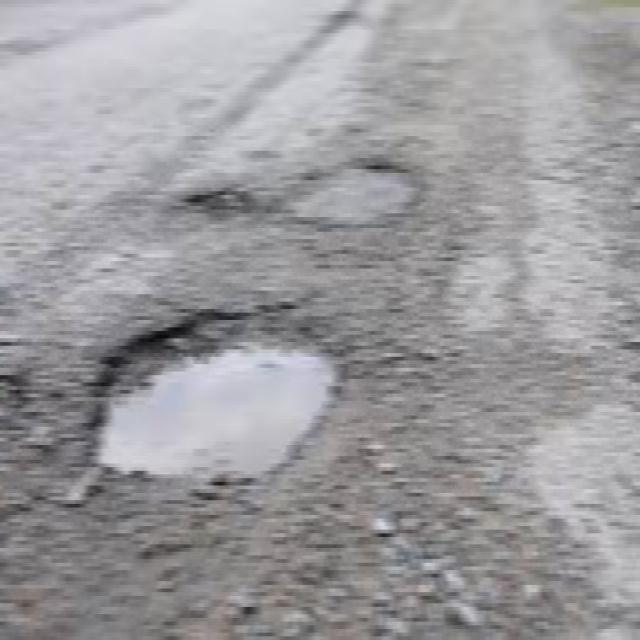Pothole: (74, 291, 354, 491), (282, 156, 429, 233), (176, 178, 255, 226)
